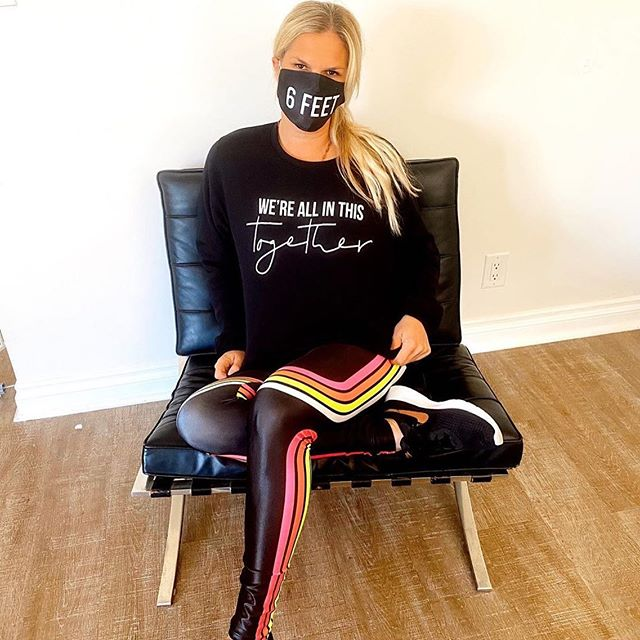homemade: (275, 69, 351, 130)
